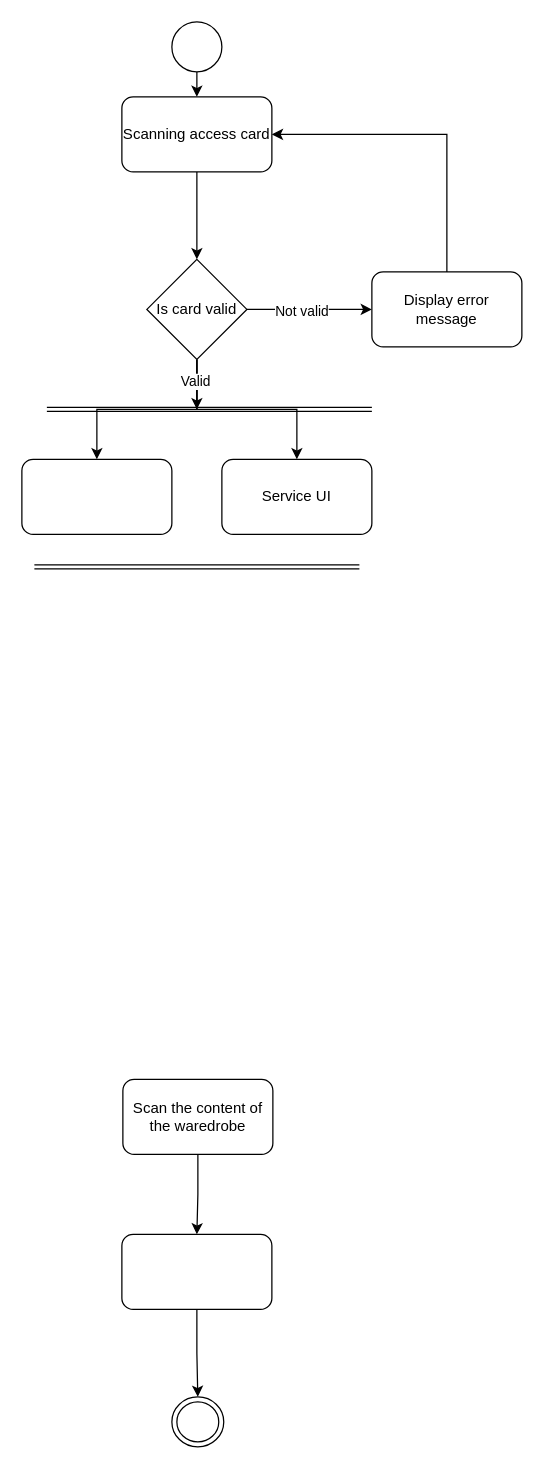
The diagram is 544 pixels wide and 1469 high, and some of its shapes have lost their labels. Each missing label, with the box of its shape:
Display home menu: (121, 1233, 272, 1309)
Unlock the door: (21, 458, 172, 534)
